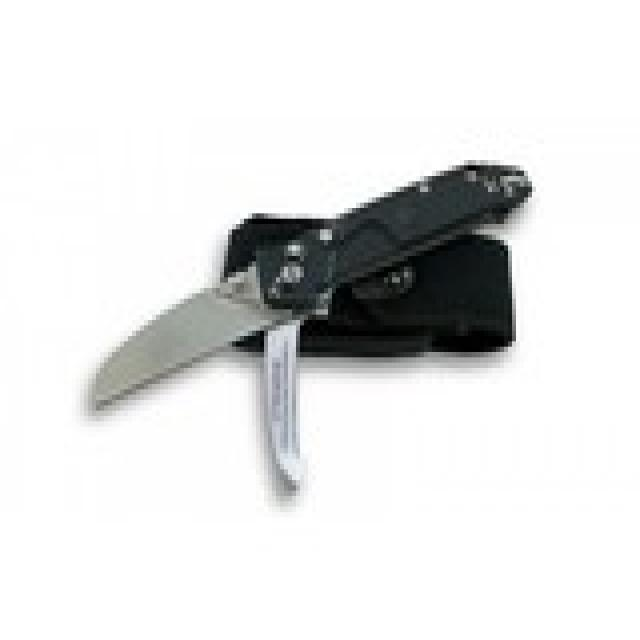Knife: (84, 149, 537, 439)
